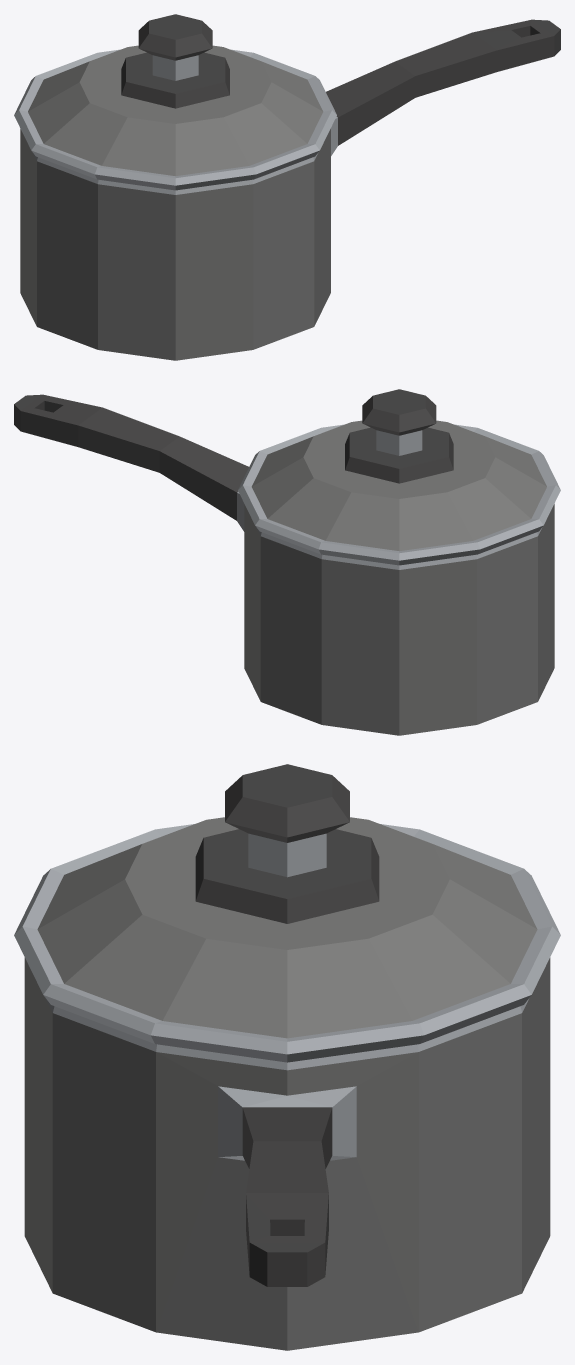
File: SM_Prop_CookingPot_01.fbx
3 views of the same model, one above another, from view 1: azimuth 30°, elevation 25°; view 2: azimuth 150°, elevation 25°; view 3: azimuth 270°, elevation 25° (orthographic). The views are drawn at different scales.
Parts seen in each view (by area): view 1: SM_Prop_CookingPot_01, SM_Prop_CookingPot_Lid_01; view 2: SM_Prop_CookingPot_01, SM_Prop_CookingPot_Lid_01; view 3: SM_Prop_CookingPot_01, SM_Prop_CookingPot_Lid_01.
Boxes of the visible parts, x1,y1,x2,y2 form: SM_Prop_CookingPot_01: (20, 19, 560, 360); SM_Prop_CookingPot_Lid_01: (14, 14, 336, 190); SM_Prop_CookingPot_01: (14, 394, 554, 735); SM_Prop_CookingPot_Lid_01: (238, 389, 560, 565); SM_Prop_CookingPot_01: (24, 957, 550, 1350); SM_Prop_CookingPot_Lid_01: (14, 764, 560, 1062).
Bounding box in the file's own units: 63.4 × 30.77 × 33.88.
